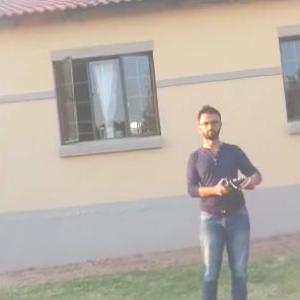follow: (182, 98, 274, 299)
